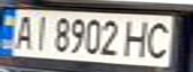0: (84, 16, 106, 56)
2: (100, 16, 124, 57)
8: (51, 15, 72, 53)
9: (66, 15, 87, 54)
A: (9, 11, 36, 51)
C: (142, 19, 178, 58)
H: (121, 17, 154, 59)
I: (27, 12, 51, 52)
